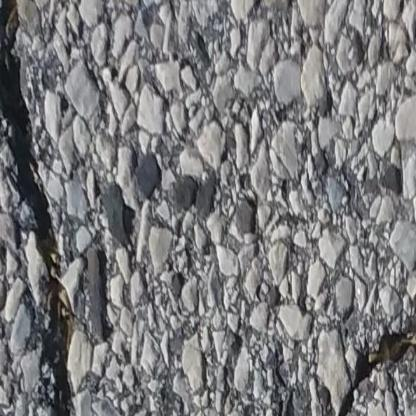Cracks: (0, 0, 111, 416), (328, 308, 416, 416), (0, 395, 19, 416)
